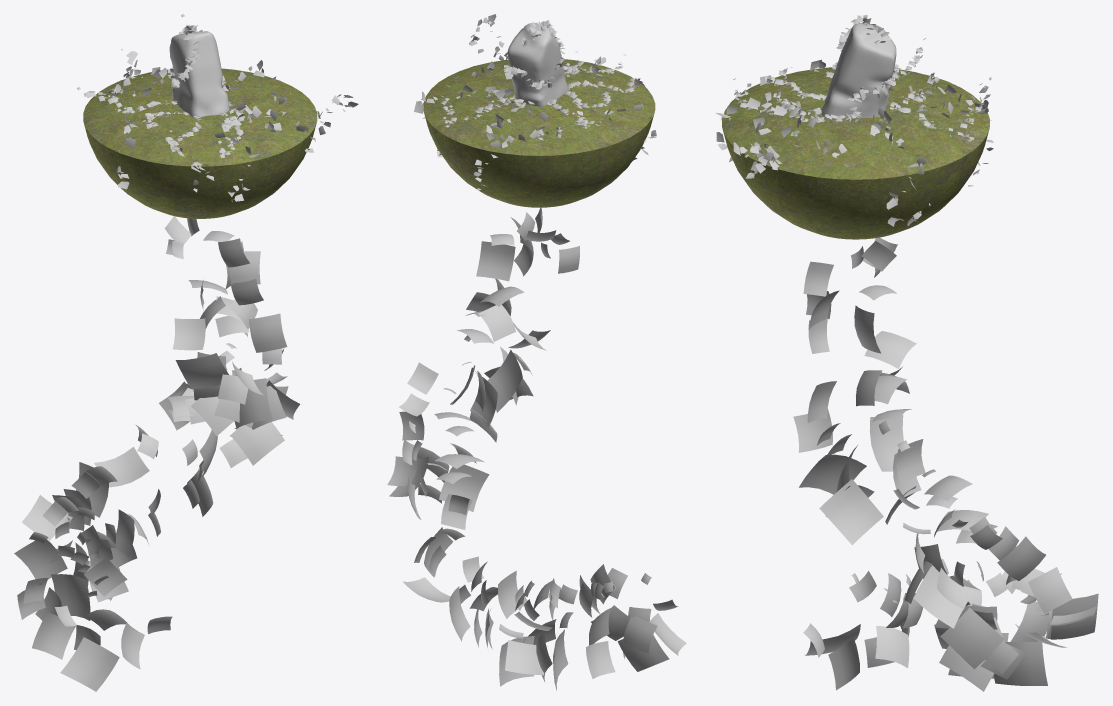
Rendered from flower_altar.fbx.
The picture shows the model from 3 angles, left to right: view 1: azimuth 30°, elevation 25°; view 2: azimuth 150°, elevation 25°; view 3: azimuth 270°, elevation 25°; orthographic projection. The views are drawn at different scales.
Parts seen in each view (by area): view 1: Bush_Medium_Section_1.002_Plane.005, Diorama_Base_1, Rock; view 2: Bush_Medium_Section_1.002_Plane.005, Diorama_Base_1, Rock; view 3: Bush_Medium_Section_1.002_Plane.005, Diorama_Base_1, Rock.
Part boxes in pixels (<box>): Bush_Medium_Section_1.002_Plane.005: <box>14,14,358,691</box>; Diorama_Base_1: <box>83,68,317,218</box>; Rock: <box>169,31,229,117</box>; Bush_Medium_Section_1.002_Plane.005: <box>387,14,686,690</box>; Diorama_Base_1: <box>423,59,655,207</box>; Rock: <box>507,23,568,106</box>; Bush_Medium_Section_1.002_Plane.005: <box>716,15,1098,691</box>; Diorama_Base_1: <box>722,67,989,239</box>; Rock: <box>821,23,896,118</box>.
Bounding box in the file's own units: 9180 × 20421 × 10003.
